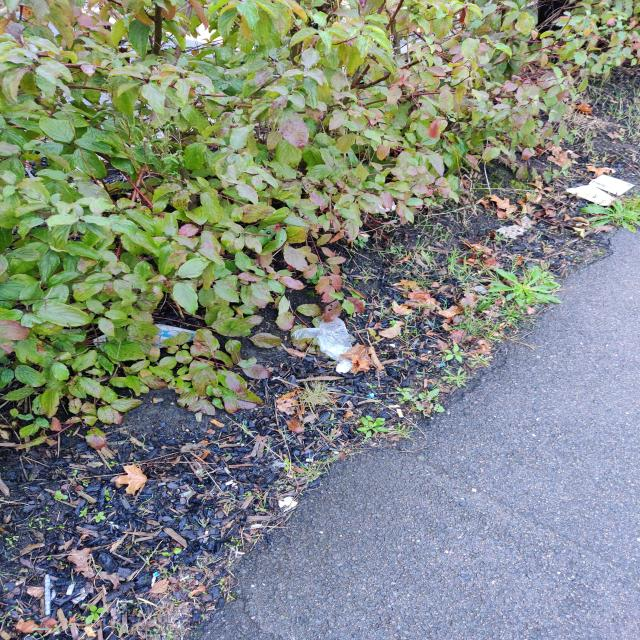litter: (281, 309, 356, 377)
